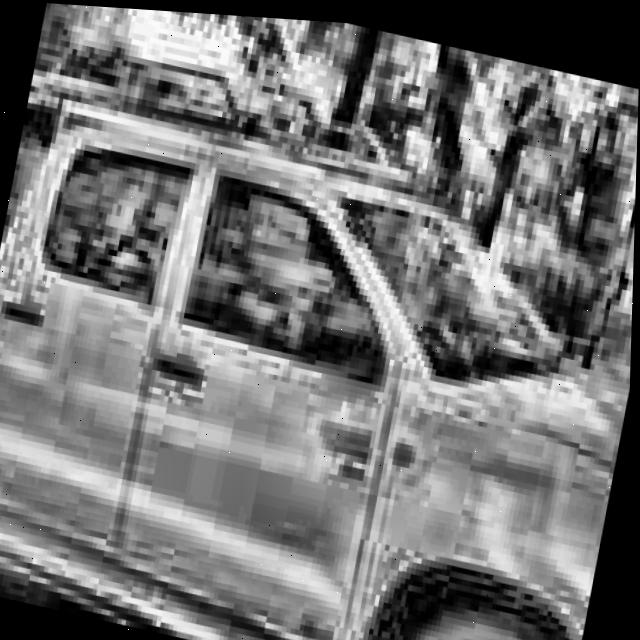light_vehicle: (0, 27, 639, 640)
